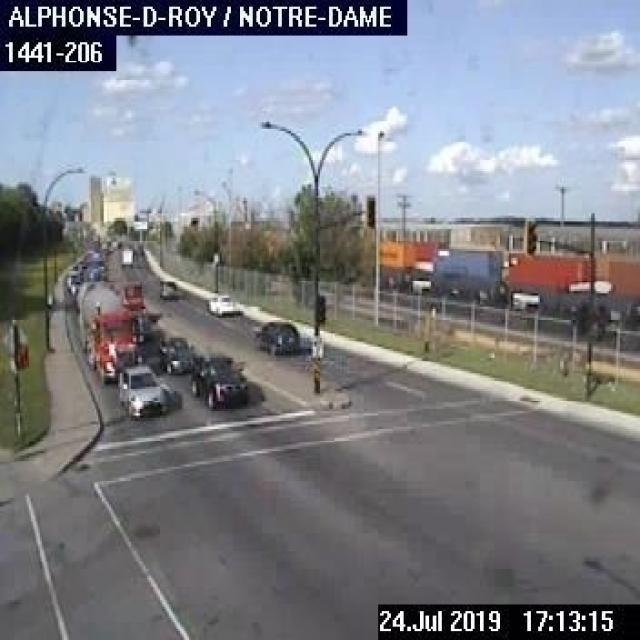vehicle: (72, 275, 143, 382), (187, 350, 251, 411), (112, 364, 166, 420), (158, 332, 196, 373), (256, 318, 298, 349), (204, 291, 244, 316), (156, 280, 173, 298), (120, 247, 131, 264)
